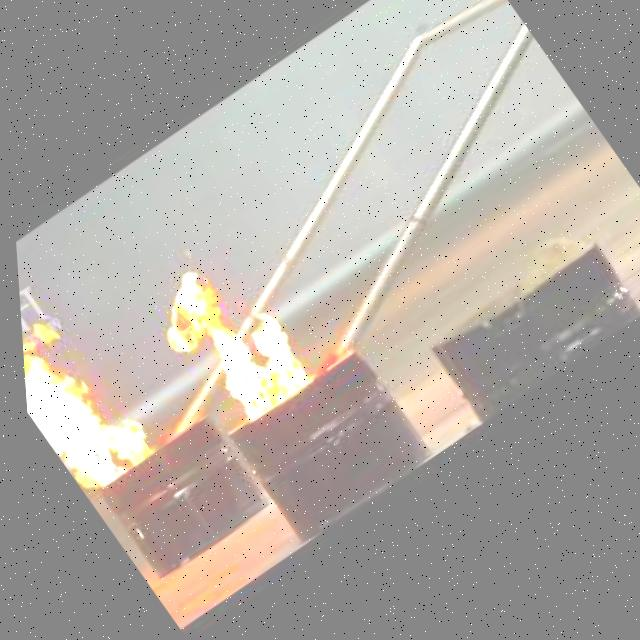Fire: (131, 221, 340, 436), (14, 262, 168, 501)
